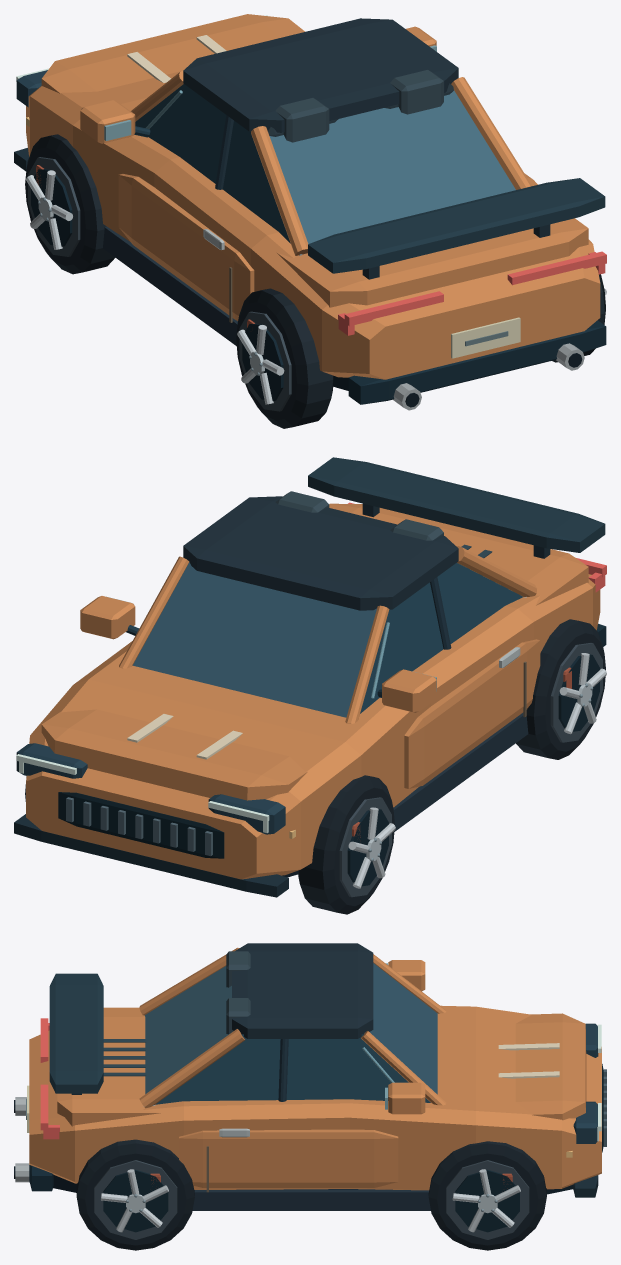
File: comet-gt.glb
3 renders of one model, top to bottom at view 1: azimuth 30°, elevation 25°; view 2: azimuth 150°, elevation 25°; view 3: azimuth 270°, elevation 25°, orthographic. The views are drawn at different scales.
Parts seen in each view (by area): view 1: comet-gt; view 2: comet-gt; view 3: comet-gt.
Boxes of the visible parts, x1,y1,x2,y2 form: comet-gt: (14, 14, 606, 428); comet-gt: (14, 457, 606, 914); comet-gt: (14, 943, 606, 1250).
Bounding box in the file's own units: 2.54 × 1.8 × 4.62.
